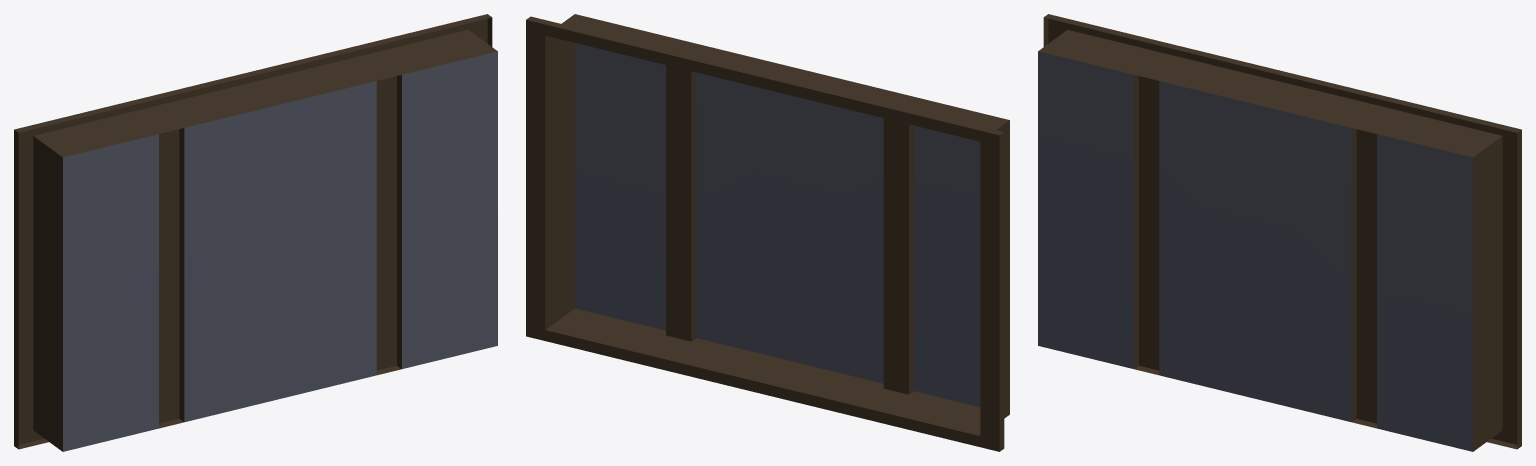
File: Old_window_side.fbx
3 views of the same model, side by side, from view 1: azimuth 30°, elevation 25°; view 2: azimuth 150°, elevation 25°; view 3: azimuth 330°, elevation 25° (orthographic).
Parts seen in each view (by area): view 1: Old_window_side; view 2: Old_window_side; view 3: Old_window_side.
Boxes of the visible parts, x1,y1,x2,y2 form: Old_window_side: (14,14,497,451); Old_window_side: (526,14,1009,451); Old_window_side: (1038,14,1521,451).
Bounding box in the file's own units: 5.53 × 0.5974 × 3.53.
